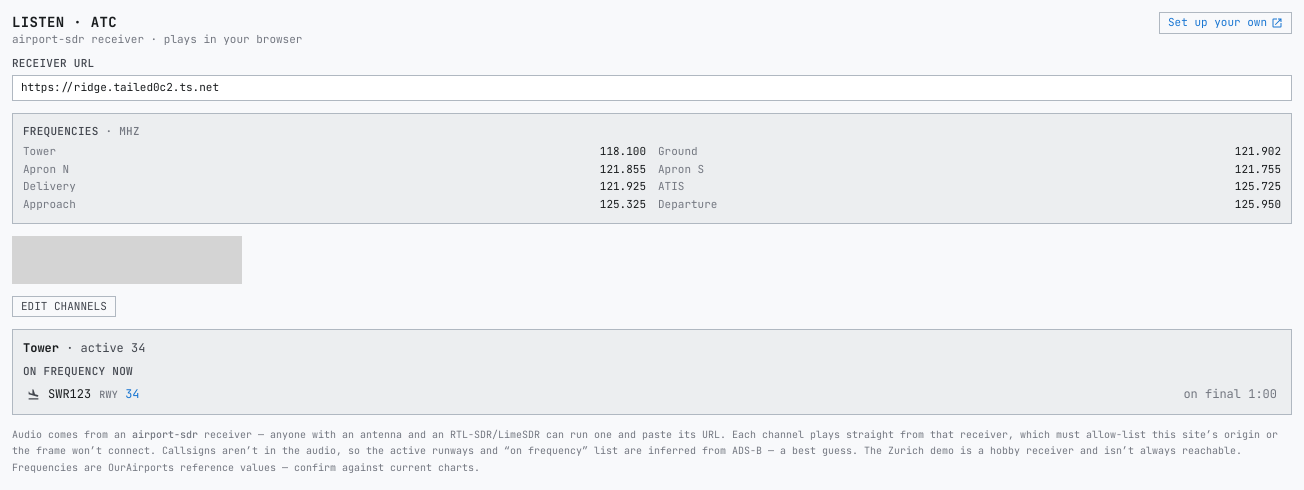
Test case: AtcPanel › shows who's on frequency once a channel reports it is playing
Expected: the text "· active 34" is shown, x1=66 y1=340 x2=145 y2=356
Click the button "SWR123 RWY 34 on final 1:00" at (70, 394), box x1=23 y1=384 x2=1281 y2=404
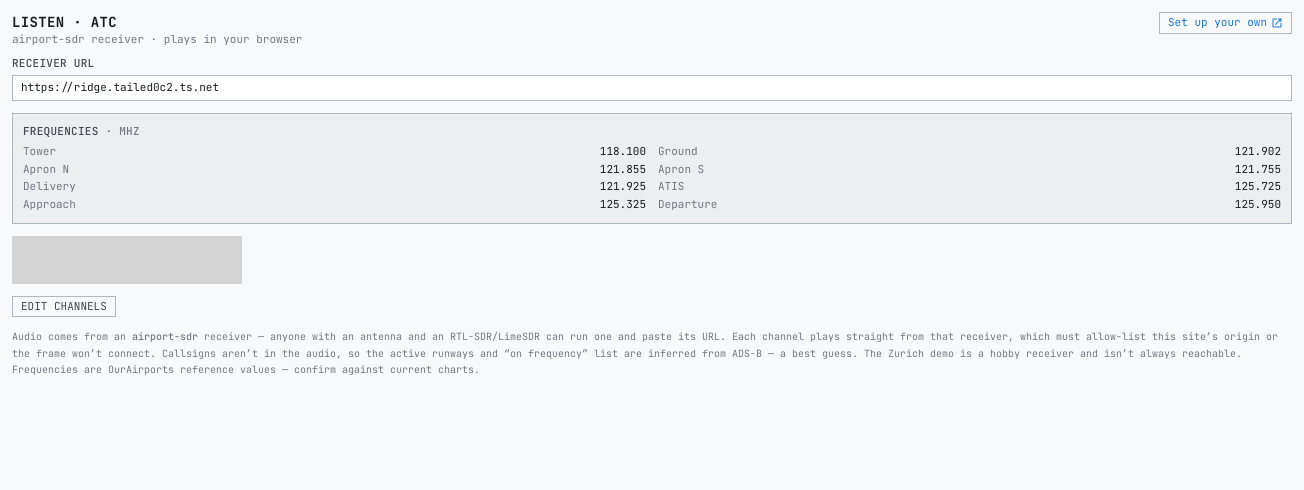
Expected: the text "active 34" is gone
